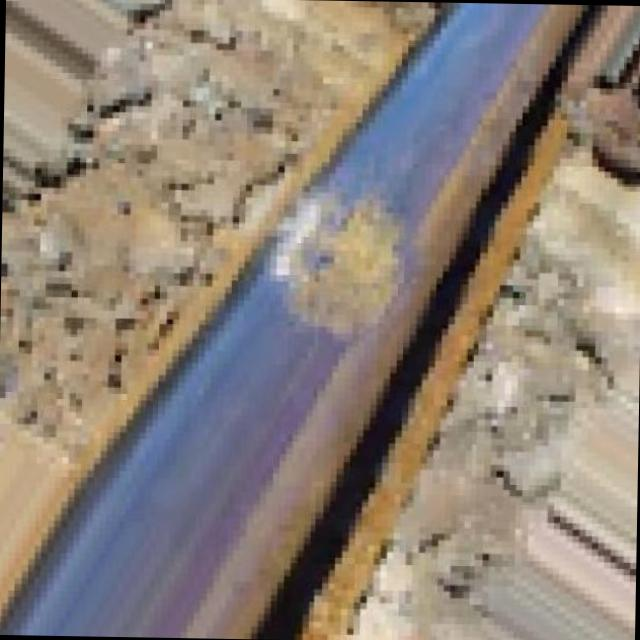defective: (223, 130, 465, 428)
